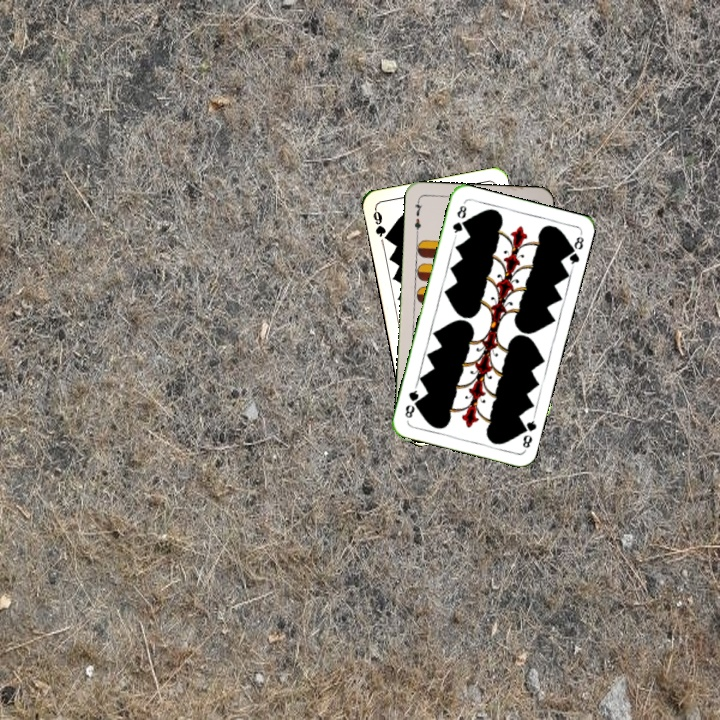E7: (410, 196, 425, 237)
G8: (516, 412, 539, 452), (448, 201, 469, 239)
G9: (369, 205, 392, 244)
